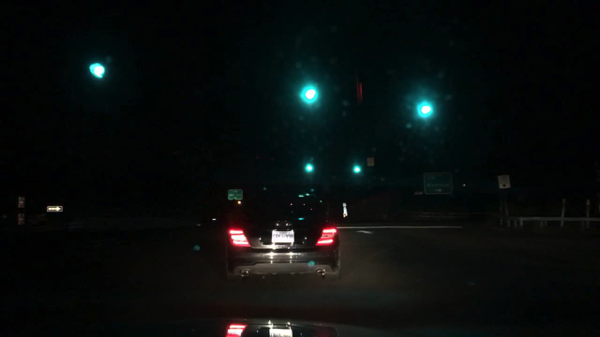car: (222, 194, 340, 290)
traffic light: (420, 99, 430, 121), (305, 82, 314, 106), (305, 162, 313, 174), (352, 166, 360, 175)
traffic sign: (422, 169, 452, 194), (496, 174, 511, 190), (226, 189, 243, 200), (46, 205, 63, 213), (17, 213, 25, 229), (366, 156, 375, 169), (18, 195, 25, 208)
